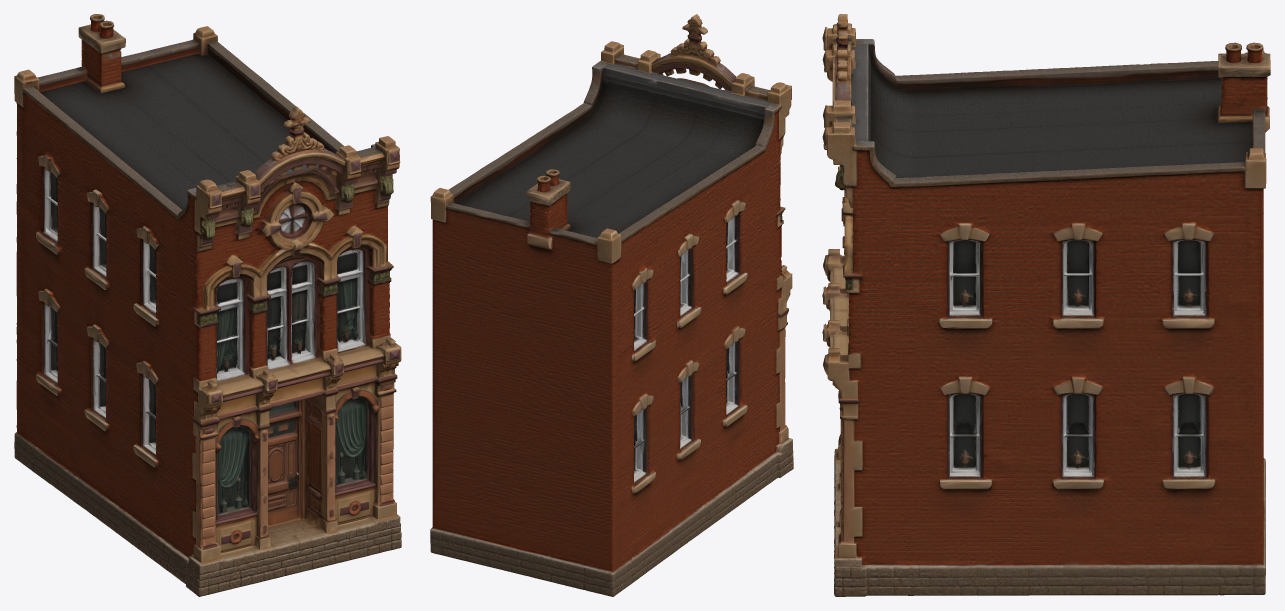
Rendered from PlymouthStore_Comparison_LOD0.fbx.
3 renders of one model, left to right at view 1: azimuth 30°, elevation 25°; view 2: azimuth 150°, elevation 25°; view 3: azimuth 270°, elevation 25°, orthographic. The views are drawn at different scales.
Visible parts, largest first — view 1: PlymouthStore_LOD0; view 2: PlymouthStore_LOD0; view 3: PlymouthStore_LOD0.
Part boxes in pixels (x1,y1,x2,y2): PlymouthStore_LOD0: [14, 14, 401, 596]; PlymouthStore_LOD0: [430, 14, 793, 596]; PlymouthStore_LOD0: [822, 14, 1270, 596].
Bounding box in the file's own units: 551 × 1200 × 926.
